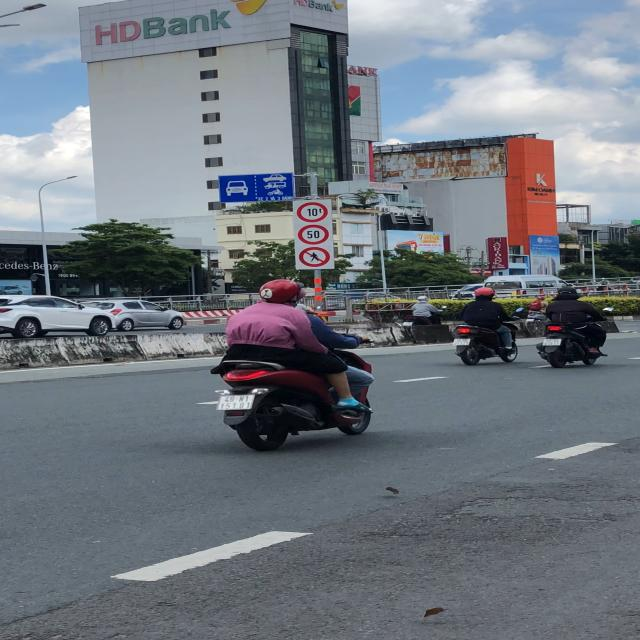Bien bao cam nguoi di bo: (298, 247, 332, 268)
Bien bao toc do toi da cho phep: (296, 223, 332, 246)
